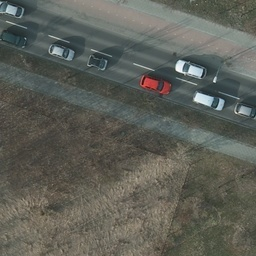car: (139, 75, 173, 95), (1, 1, 27, 24), (192, 93, 224, 111), (46, 42, 76, 61), (1, 31, 27, 50), (176, 63, 205, 80), (85, 53, 108, 71)
